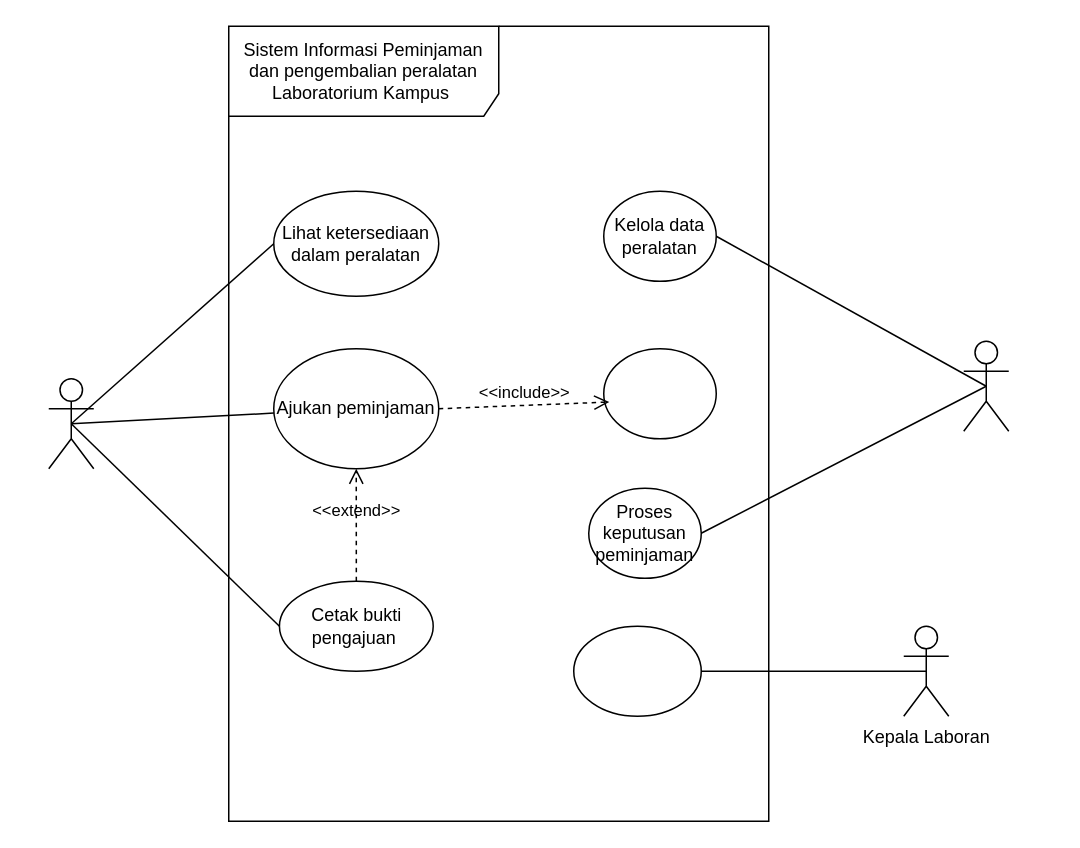
This 1080x848 diagram has some shape labels left out. Each missing label, with the centre of its shape:
"Lihat laporan peminjama" goes at (x=636, y=670).
"Mahasiswa" goes at (x=70, y=423).
"Periksa Ketersediaan" goes at (x=659, y=393).
"Petugas Laboran" goes at (x=985, y=385).
